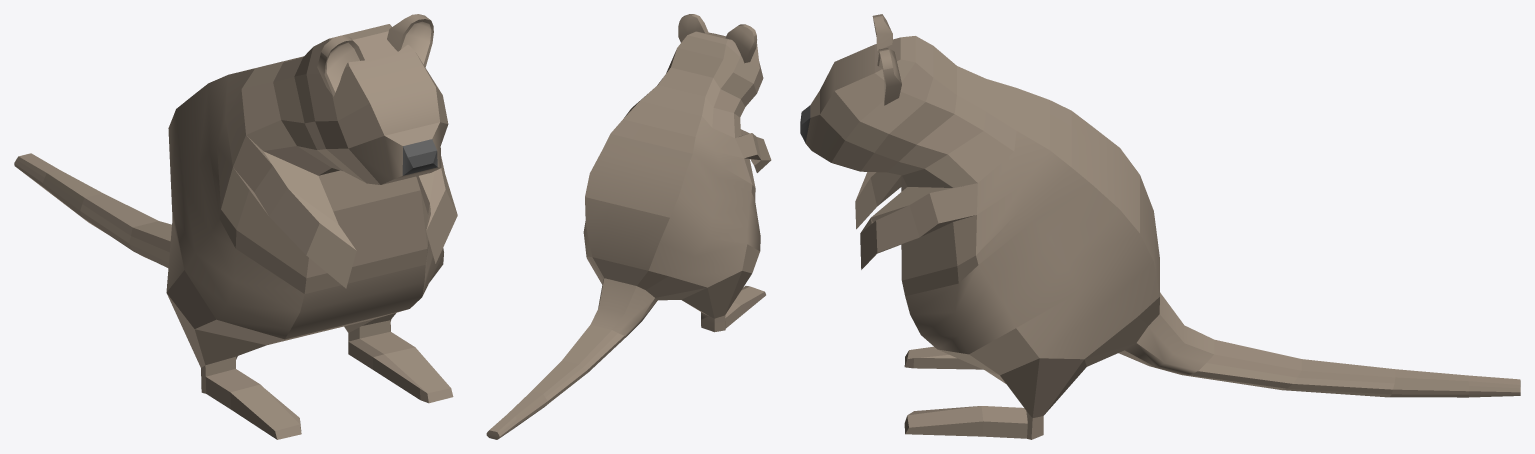
The model's file is Quokka.fbx.
3 views of the same model, side by side, from view 1: azimuth 30°, elevation 25°; view 2: azimuth 150°, elevation 25°; view 3: azimuth 270°, elevation 25° (orthographic). The views are drawn at different scales.
Parts seen in each view (by area): view 1: Quokka; view 2: Quokka; view 3: Quokka.
Boxes of the visible parts, x1,y1,x2,y2 form: Quokka: (14,14,457,439); Quokka: (486,14,771,439); Quokka: (800,14,1520,439).
Bounding box in the file's own units: 8.98 × 13.94 × 24.93.
